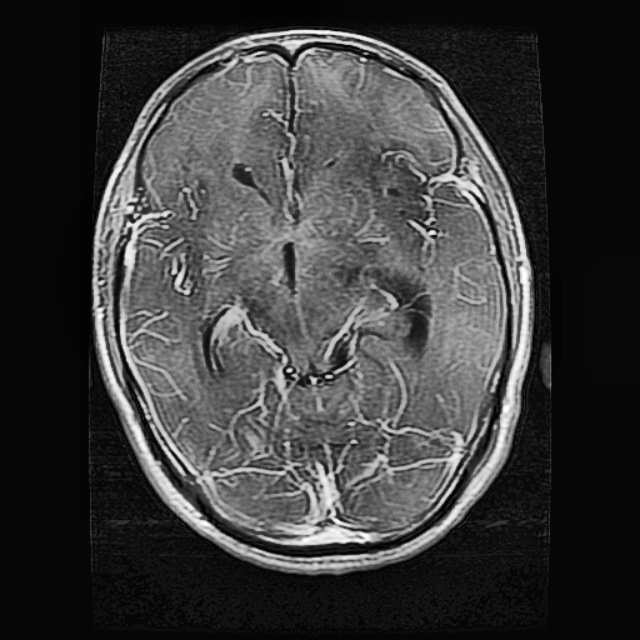Glioma: (363, 263, 432, 345)
